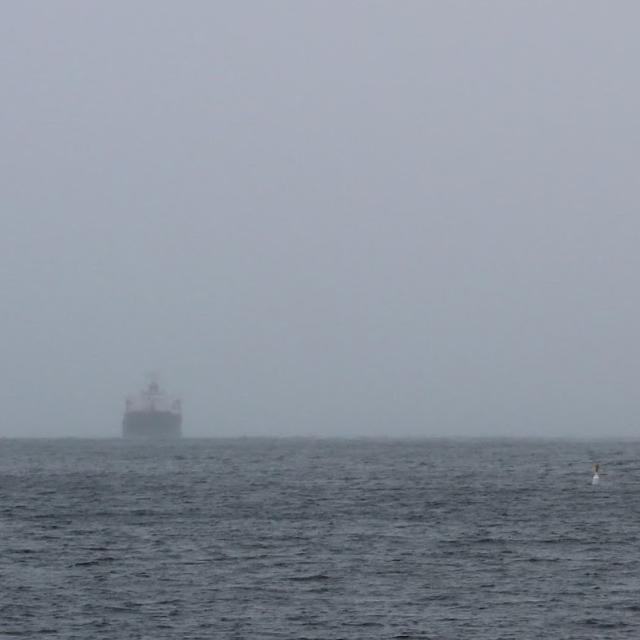cargoship: (118, 372, 192, 438)
